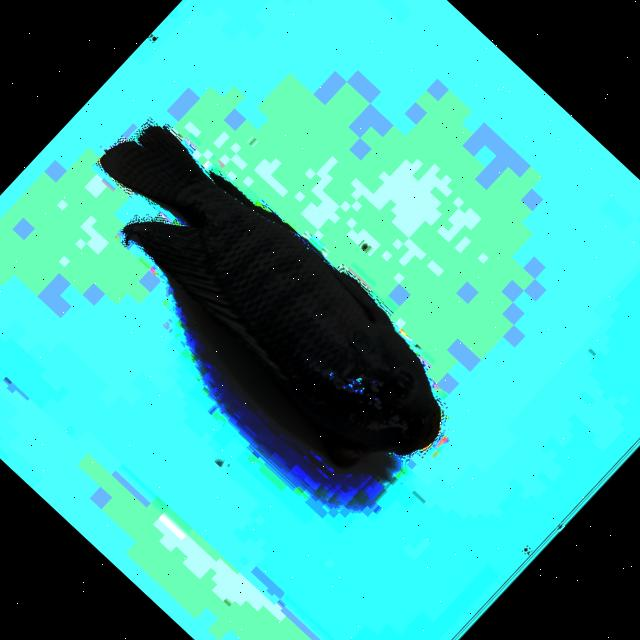Streptococcus: (100, 125, 439, 467)
